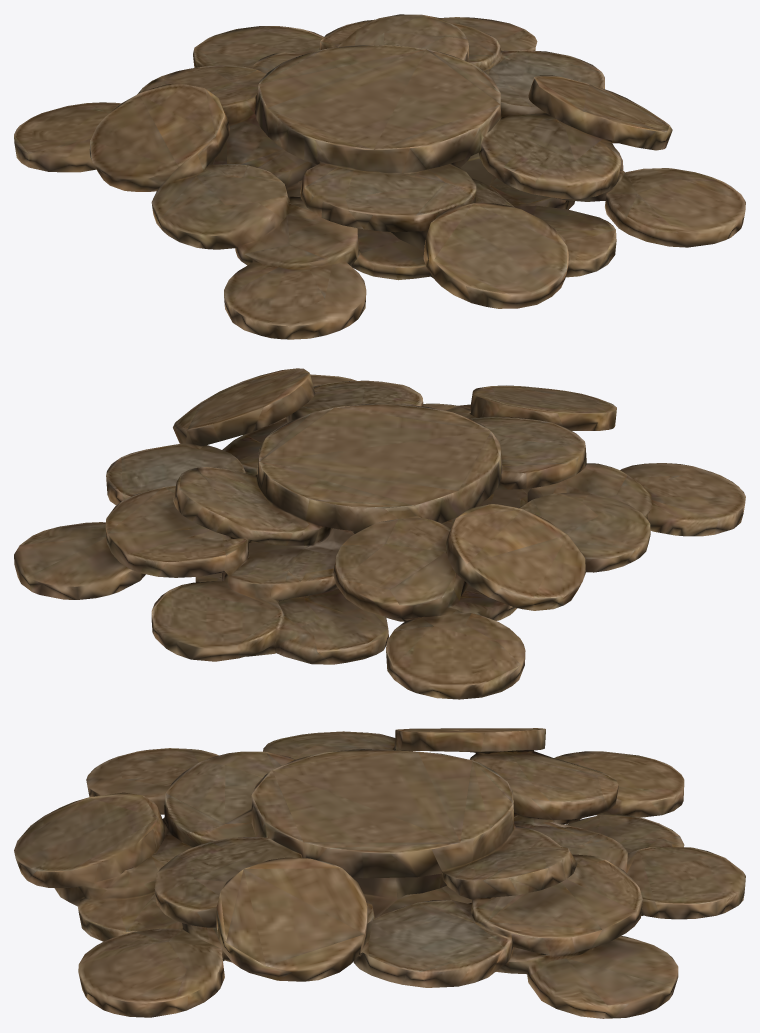
File: coins.glb
3 renders of one model, top to bottom at view 1: azimuth 30°, elevation 25°; view 2: azimuth 150°, elevation 25°; view 3: azimuth 270°, elevation 25°, orthographic. The views are drawn at different scales.
Visible parts, largest first — view 1: Mesh_0; view 2: Mesh_0; view 3: Mesh_0.
Boxes of the visible parts, left/top/right/bottom form: Mesh_0: left=14, top=14, right=745, bottom=339; Mesh_0: left=14, top=368, right=745, bottom=699; Mesh_0: left=14, top=728, right=745, bottom=1018.
Size of the model in its own units: 1.58 by 0.2889 by 1.9.
1 material, 1 textured.
